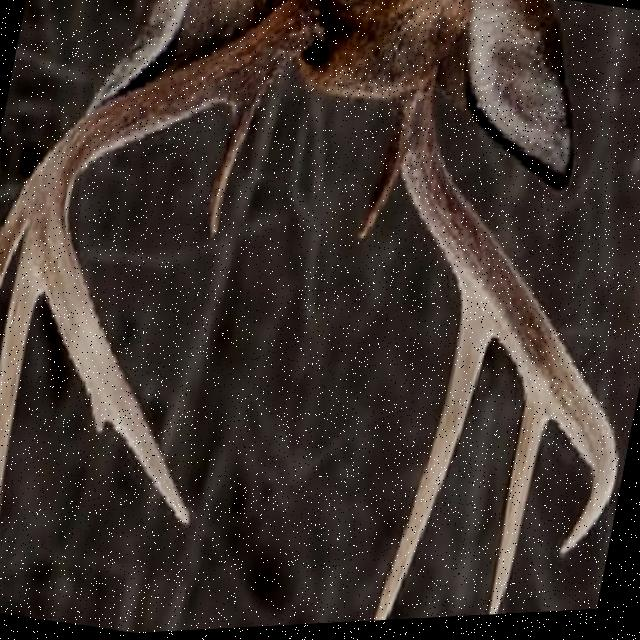L-F: (29, 0, 324, 528)
L-G1: (207, 94, 264, 243)
L-G2: (0, 164, 40, 289)
L-G3: (0, 228, 42, 514)
R-F: (393, 67, 620, 565)
R-G1: (355, 149, 400, 244)
R-G2: (373, 303, 490, 625)
R-G3: (488, 399, 549, 620)
